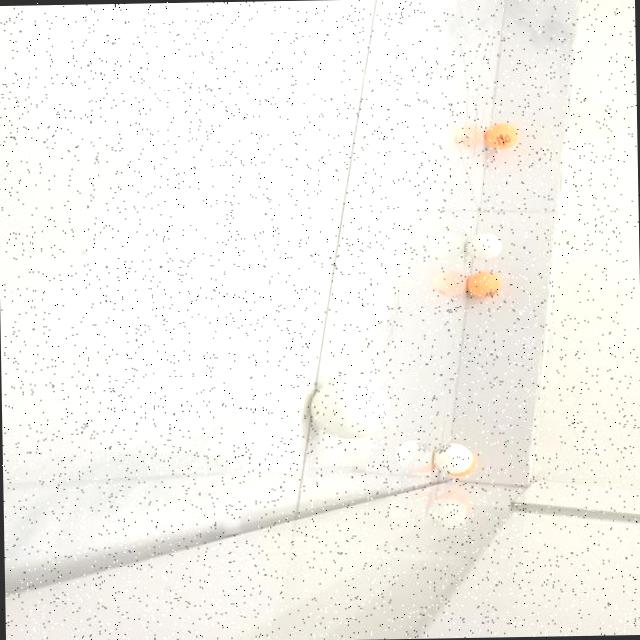ping-pong-ball: (306, 378, 389, 439), (439, 446, 478, 478), (432, 442, 470, 473), (464, 231, 502, 260), (484, 122, 522, 150), (467, 272, 500, 296)
